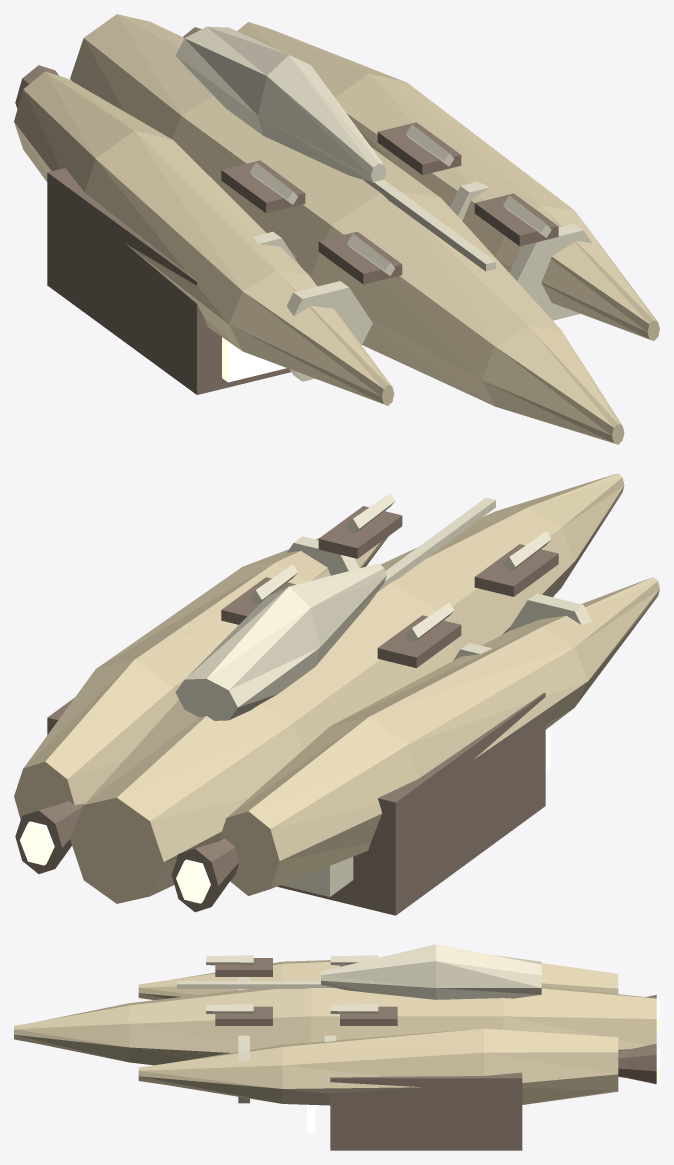
The picture shows the model from 3 angles, top to bottom: view 1: azimuth 30°, elevation 25°; view 2: azimuth 150°, elevation 25°; view 3: azimuth 270°, elevation 25°; orthographic projection. The views are drawn at different scales.
Size of the model in its own units: 6.65 by 4.2 by 16.15.
